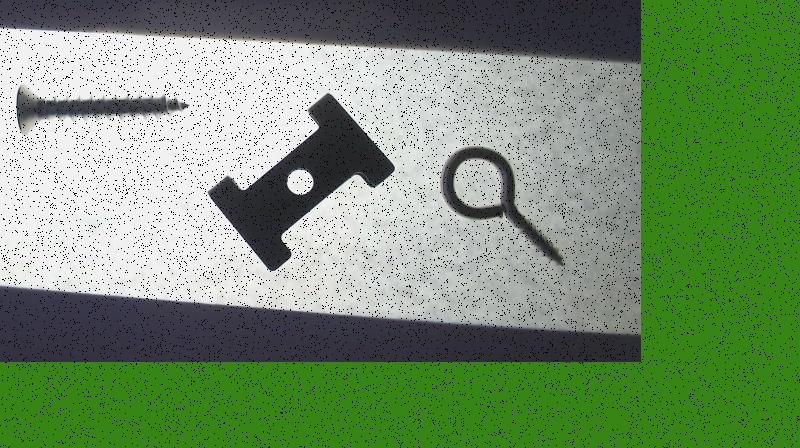O001: (438, 145, 563, 267)
O002: (207, 90, 395, 271)
S001: (13, 77, 191, 134)
